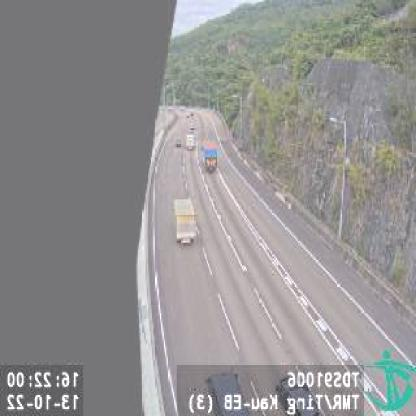Car: (207, 368, 248, 414), (175, 136, 183, 147)
Truck: (172, 198, 196, 247), (202, 144, 219, 173), (184, 133, 196, 153)
